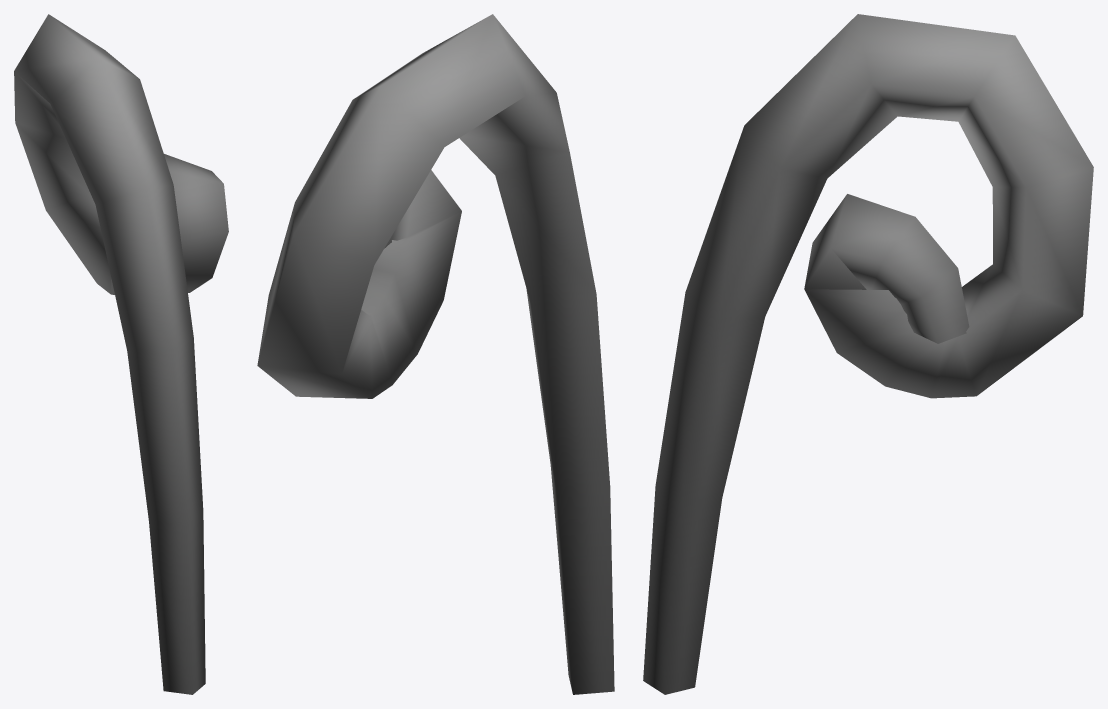
The model's file is tige_marecage.fbx.
The picture shows the model from 3 angles, left to right: view 1: azimuth 30°, elevation 25°; view 2: azimuth 150°, elevation 25°; view 3: azimuth 270°, elevation 25°; orthographic projection. The views are drawn at different scales.
Visible parts, largest first — view 1: BezierCurve.143; view 2: BezierCurve.143; view 3: BezierCurve.143.
Boxes of the visible parts, x1,y1,x2,y2 form: BezierCurve.143: (14, 14, 228, 694); BezierCurve.143: (257, 14, 614, 694); BezierCurve.143: (643, 14, 1093, 694).
Size of the model in its own units: 22.23 by 73.22 by 44.73.
